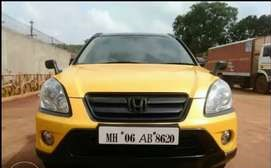MH06AB8620: (98, 126, 178, 145)
